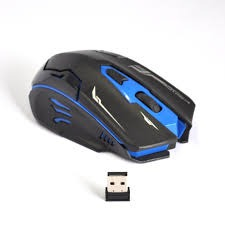mouse: (24, 30, 202, 167)
